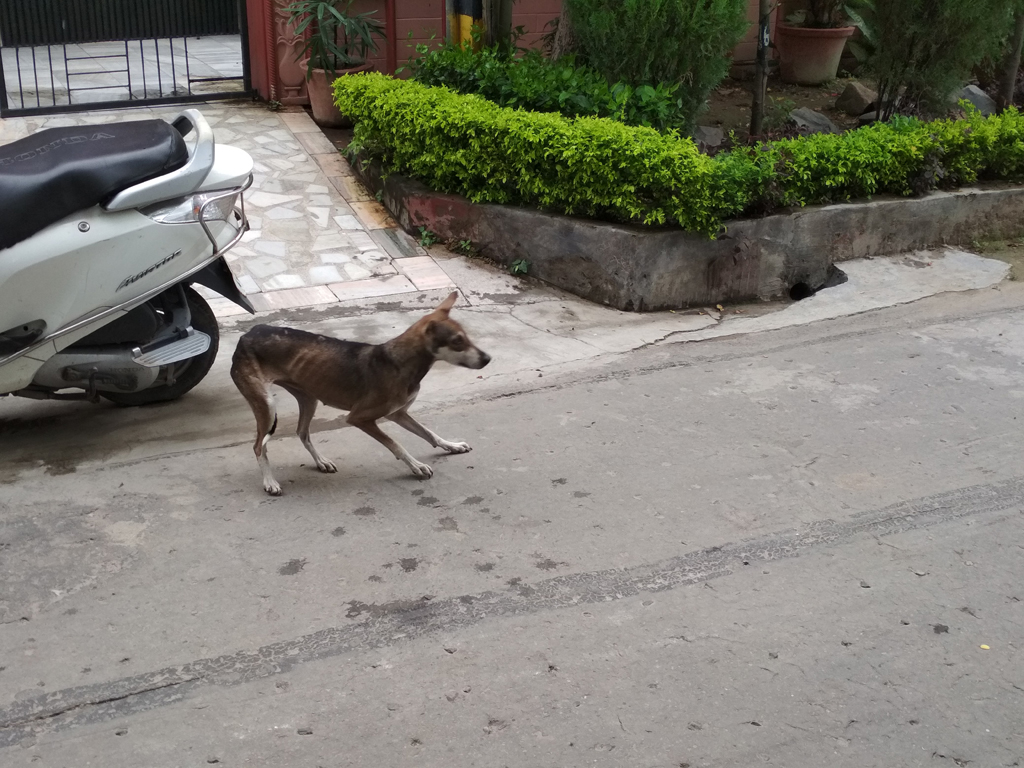dog: (232, 290, 492, 495)
